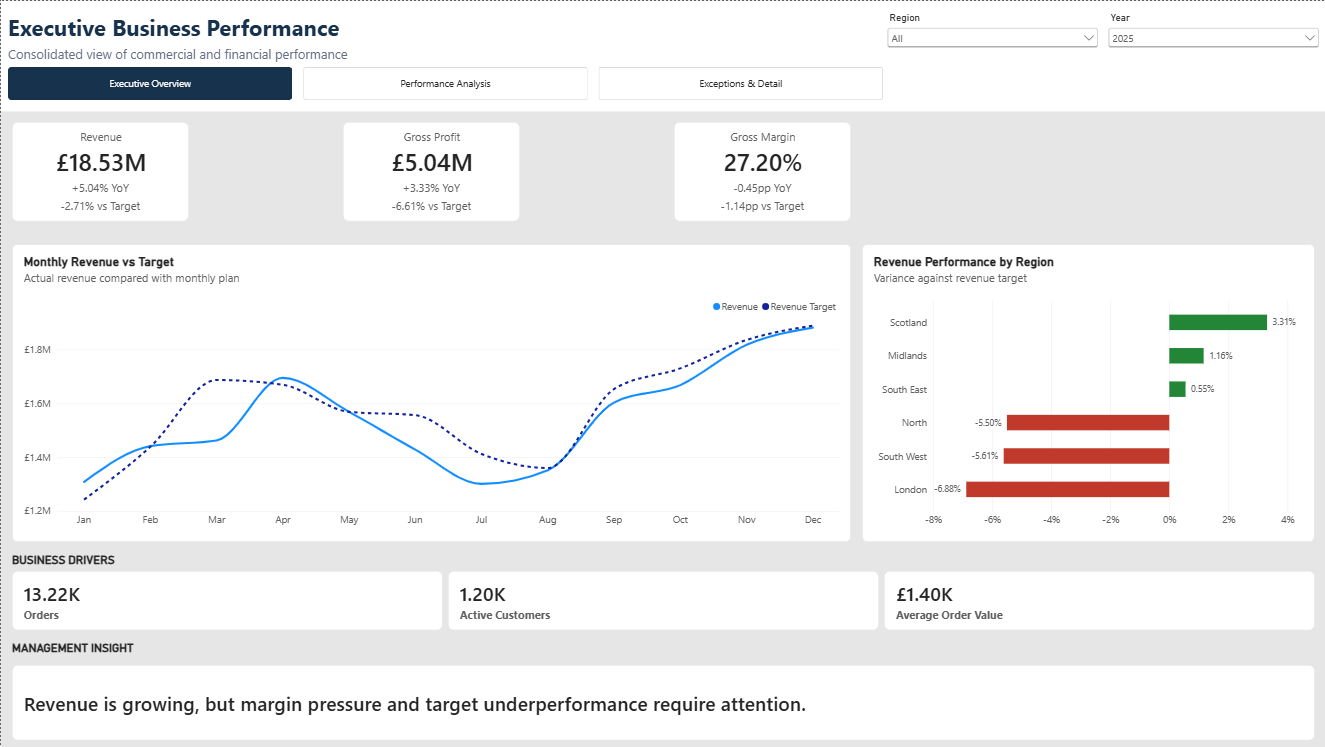

This screenshot's page, from the dashboard's own definition file:
{"tool":"powerbi","page":{"name":"Executive Overview","canvas":[1920,1080],"ordinal":0},"visuals":[{"type":"shape","box":[0,0,1920,160],"z":0},{"type":"cardVisual","fields":{"Data":["_Measures.Gross Profit Margin %"]},"box":[976,176,256,144],"z":0,"group":"g1"},{"type":"textbox","box":[10,16,1270,48],"z":1000},{"type":"cardVisual","fields":{"Data":["_Measures.Gross Margin YoY Change","_Measures.Gross Margin vs Target Valid"]},"box":[976,256,256,64],"z":1000,"group":"g1"},{"type":"textbox","box":[10,64,1270,32],"z":2000},{"type":"slicer","fields":{"Values":["DimDate.Year"]},"box":[1600,16,315,65],"z":3000},{"type":"slicer","fields":{"Values":["DimRegion.Region"]},"box":[1280,16,315,65],"z":4000},{"type":"pageNavigator","box":[10,96,1270,48],"z":5000},{"type":"cardVisual","fields":{"Data":["_Measures.Revenue"]},"box":[16,176,256,144],"z":6000,"group":"g3"},{"type":"cardVisual","fields":{"Data":["_Measures.Gross Profit"]},"box":[496,176,256,144],"z":6000,"group":"g2"},{"type":"lineChart","title":"Monthly Revenue vs Target","fields":{"Category":["DimDate.MonthShort"],"Y":["_Measures.Revenue","_Measures.Revenue Target Valid"]},"box":[16,352,1216,432],"z":6000},{"type":"barChart","title":"Revenue Performance by Region","fields":{"Category":["DimRegion.Region"],"Y":["_Measures.Revenue vs Target % Valid"]},"box":[1248,352,656,432],"z":7000},{"type":"cardVisual","title":"BUSINESS DRIVERS","fields":{"Data":["_Measures.Orders","_Measures.Active Customers","_Measures.Average Order Value"]},"box":[16,800,1888,112],"z":8000},{"type":"cardVisual","title":"MANAGEMENT INSIGHT ","fields":{"Data":["_Measures.Executive Performance Headline"]},"box":[16,928,1888,144],"z":9000},{"type":"group","id":"g1","title":"Group 1","box":[976,176,256,144],"z":10000},{"type":"group","id":"g2","title":"Group 2","box":[496,176,256,144],"z":11000},{"type":"group","id":"g3","title":"Group 3","box":[16,176,256,144],"z":12000},{"type":"cardVisual","fields":{"Data":["_Measures.Revenue YoY %","_Measures.Revenue vs Target % Valid"]},"box":[16,256,256,64],"z":13000,"group":"g3"},{"type":"cardVisual","fields":{"Data":["_Measures.Gross Profit YoY %","_Measures.Profit vs Target % Valid"]},"box":[496,256,256,64],"z":13000,"group":"g2"}]}

Visuals, with their boxes in screenshot pixels (x1, y1, x2, y2), scaled from the page's 1920x1080 canvas onto the 1325x747 screenshot:
shape: [left=0, top=0, right=1324, bottom=111]
cardVisual - _Measures.Gross Profit Margin %: [left=674, top=122, right=850, bottom=221]
textbox: [left=7, top=11, right=883, bottom=44]
cardVisual - _Measures.Gross Margin YoY Change x _Measures.Gross Margin vs Target Valid: [left=674, top=177, right=850, bottom=221]
textbox: [left=7, top=44, right=883, bottom=66]
slicer - DimDate.Year: [left=1104, top=11, right=1322, bottom=56]
slicer - DimRegion.Region: [left=883, top=11, right=1101, bottom=56]
pageNavigator: [left=7, top=66, right=883, bottom=100]
cardVisual - _Measures.Revenue: [left=11, top=122, right=188, bottom=221]
cardVisual - _Measures.Gross Profit: [left=342, top=122, right=519, bottom=221]
"Monthly Revenue vs Target" lineChart: [left=11, top=243, right=850, bottom=542]
"Revenue Performance by Region" barChart: [left=861, top=243, right=1314, bottom=542]
"BUSINESS DRIVERS" cardVisual: [left=11, top=553, right=1314, bottom=631]
"MANAGEMENT INSIGHT " cardVisual: [left=11, top=642, right=1314, bottom=741]
"Group 1" group: [left=674, top=122, right=850, bottom=221]
"Group 2" group: [left=342, top=122, right=519, bottom=221]
"Group 3" group: [left=11, top=122, right=188, bottom=221]
cardVisual - _Measures.Revenue YoY % x _Measures.Revenue vs Target % Valid: [left=11, top=177, right=188, bottom=221]
cardVisual - _Measures.Gross Profit YoY % x _Measures.Profit vs Target % Valid: [left=342, top=177, right=519, bottom=221]
